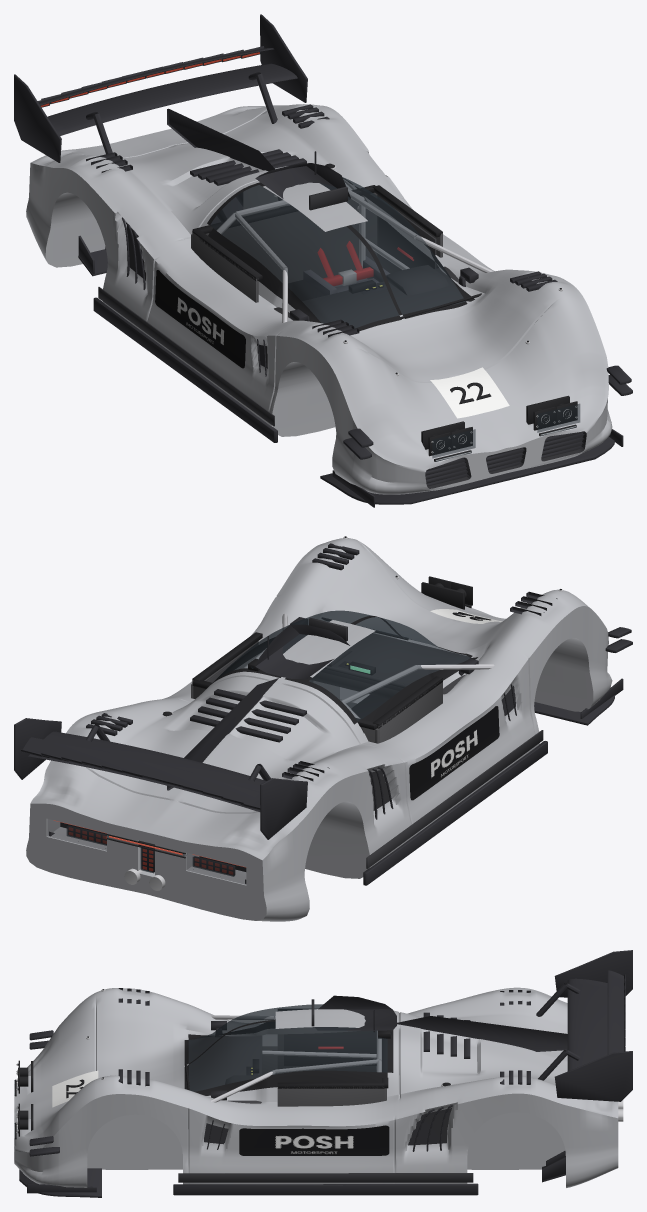
Rendered from posh_lmp2.glb.
3 renders of one model, top to bottom at view 1: azimuth 30°, elevation 25°; view 2: azimuth 150°, elevation 25°; view 3: azimuth 270°, elevation 25°, orthographic. The views are drawn at different scales.
Visible parts, largest first — view 1: posh_lmp2; view 2: posh_lmp2; view 3: posh_lmp2.
Boxes of the visible parts, left/top/right/bottom form: posh_lmp2: left=14, top=14, right=632, bottom=507; posh_lmp2: left=14, top=536, right=632, bottom=921; posh_lmp2: left=14, top=950, right=632, bottom=1197.
Bounding box in the file's own units: 2.09 × 1.24 × 4.87.
Materials: 25 (1 with a texture image).
